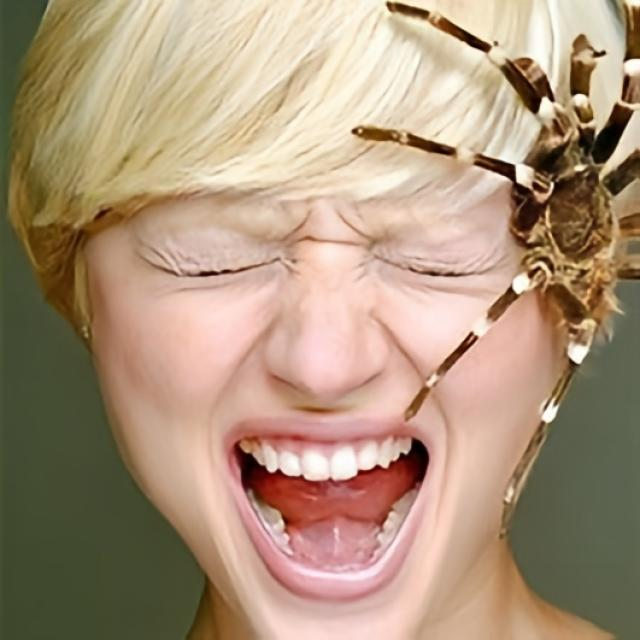fear: (81, 0, 618, 640)
